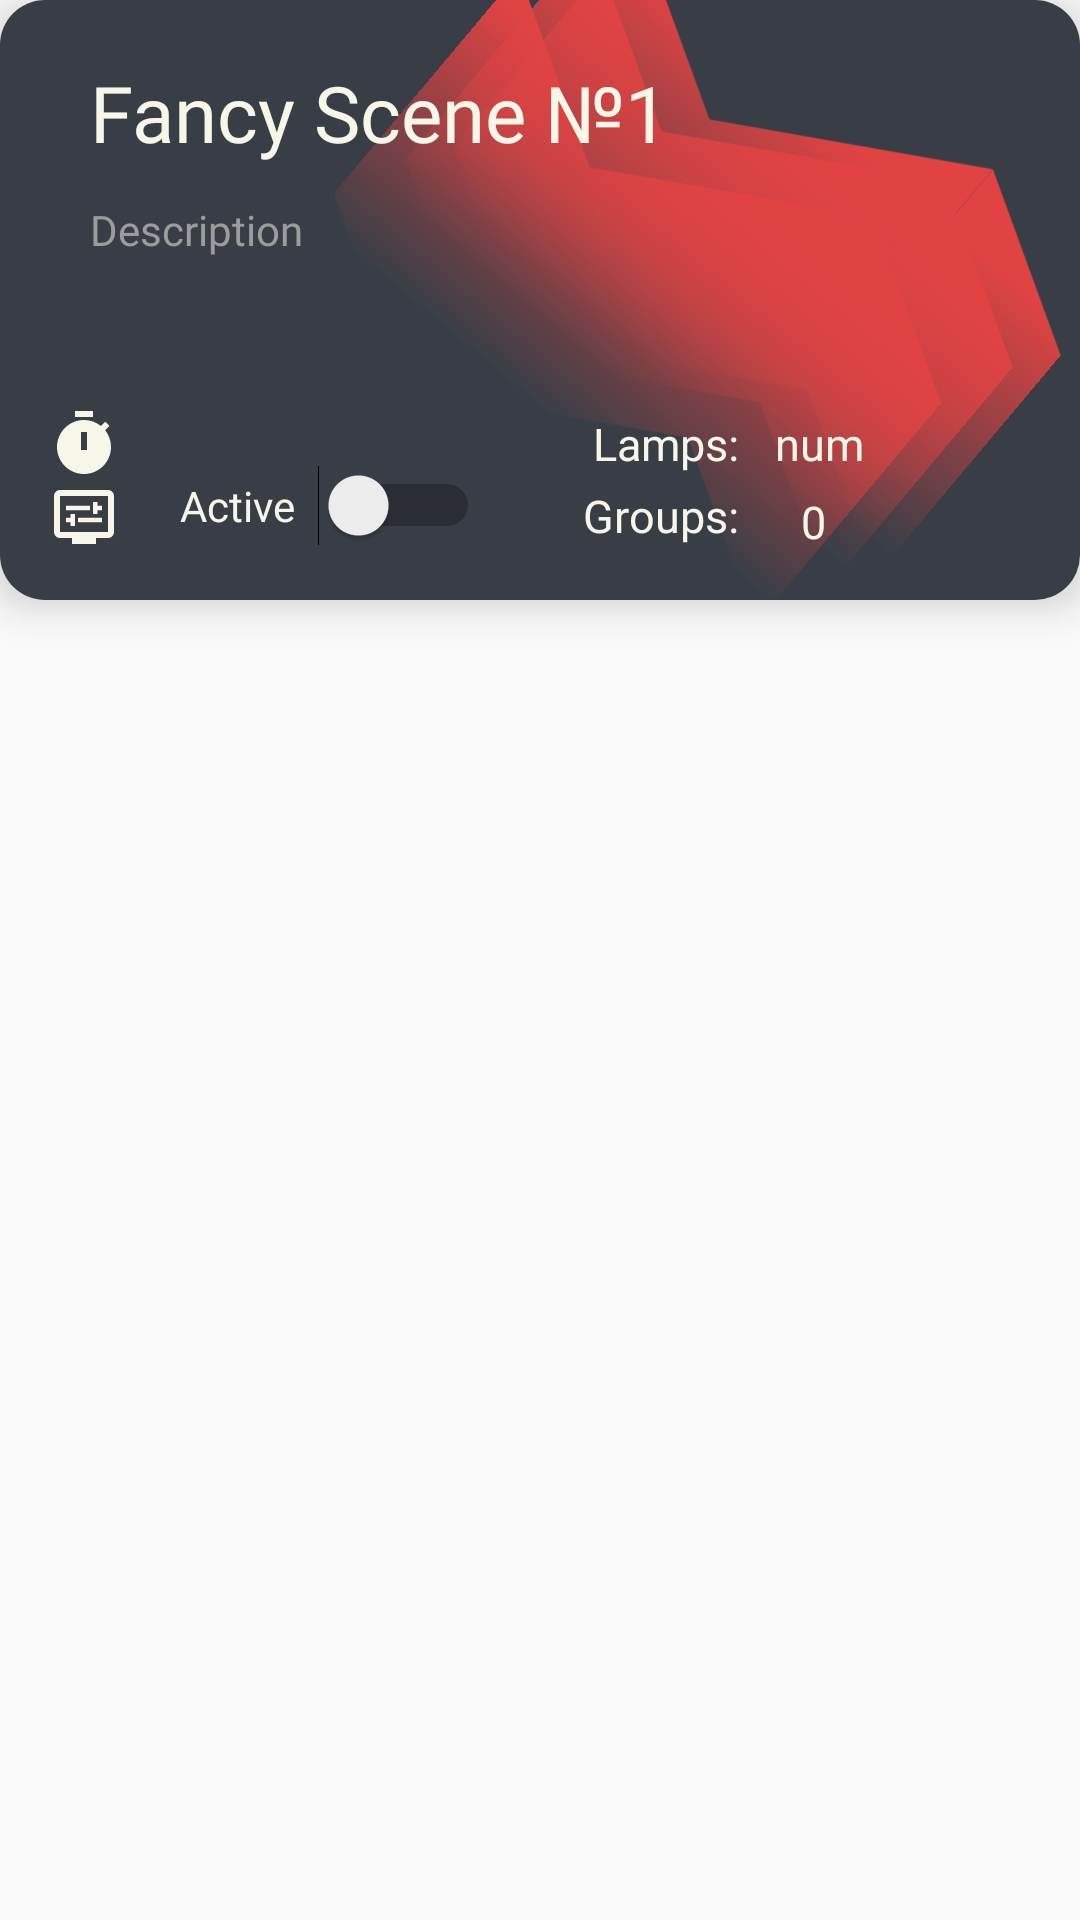

Point at icon controls on the screen. Image size 1080w x 1920h, points as (x=x, y=y).
display settings: (x=84, y=517)
timer: (x=84, y=442)
